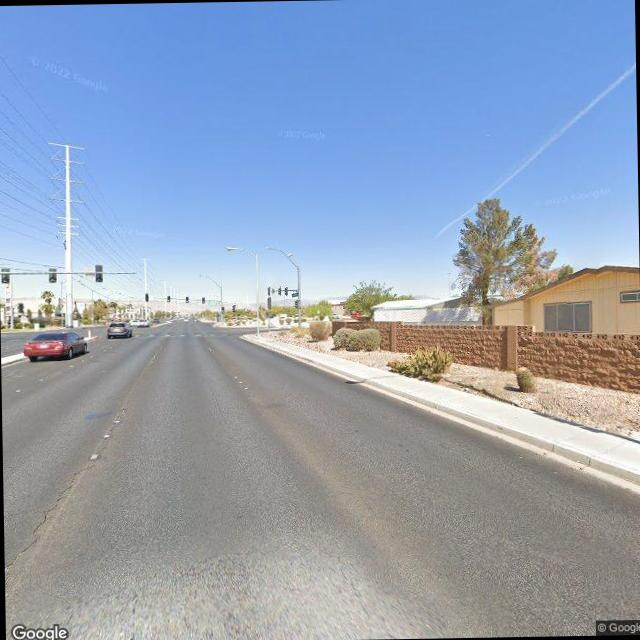pothole: (2, 446, 107, 614)
